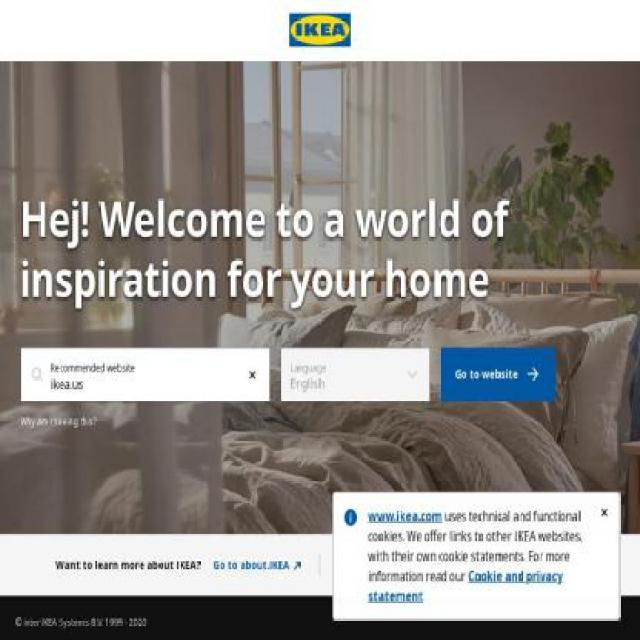button: (440, 348, 555, 402), (288, 14, 352, 46)
field: (19, 348, 270, 402), (280, 348, 431, 402)
